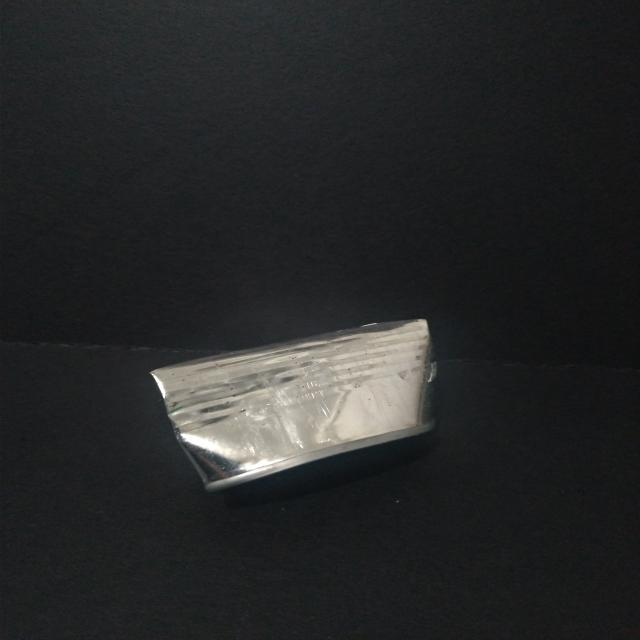metal-can: (150, 314, 442, 498)
